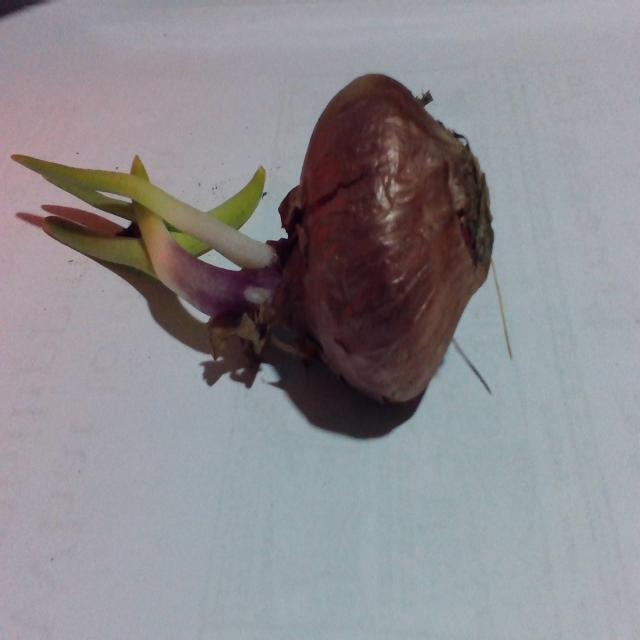onion: (250, 28, 512, 444)
